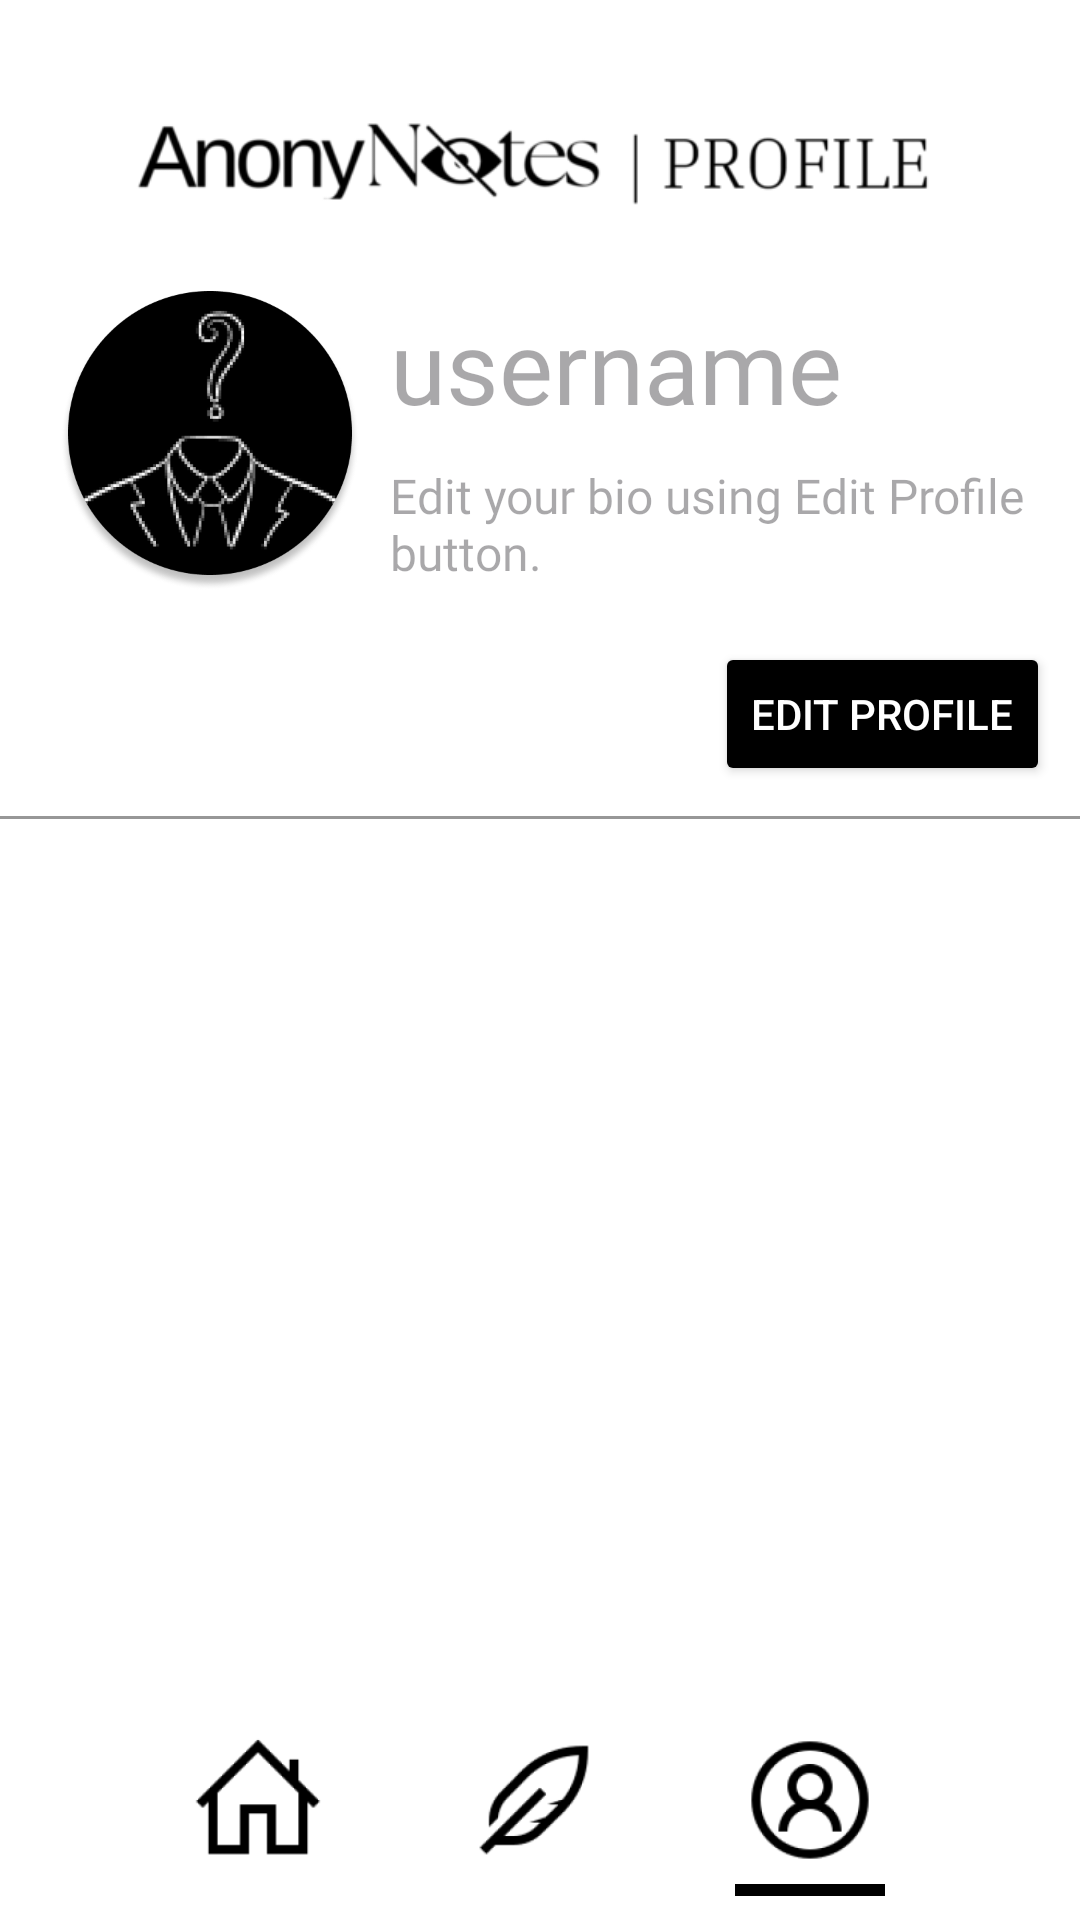

Named icons in this screenshot (1080 x 1920) and their centers, point (x, y):
Home: point (258, 1797)
Quill: point (534, 1800)
User: point (810, 1800)
